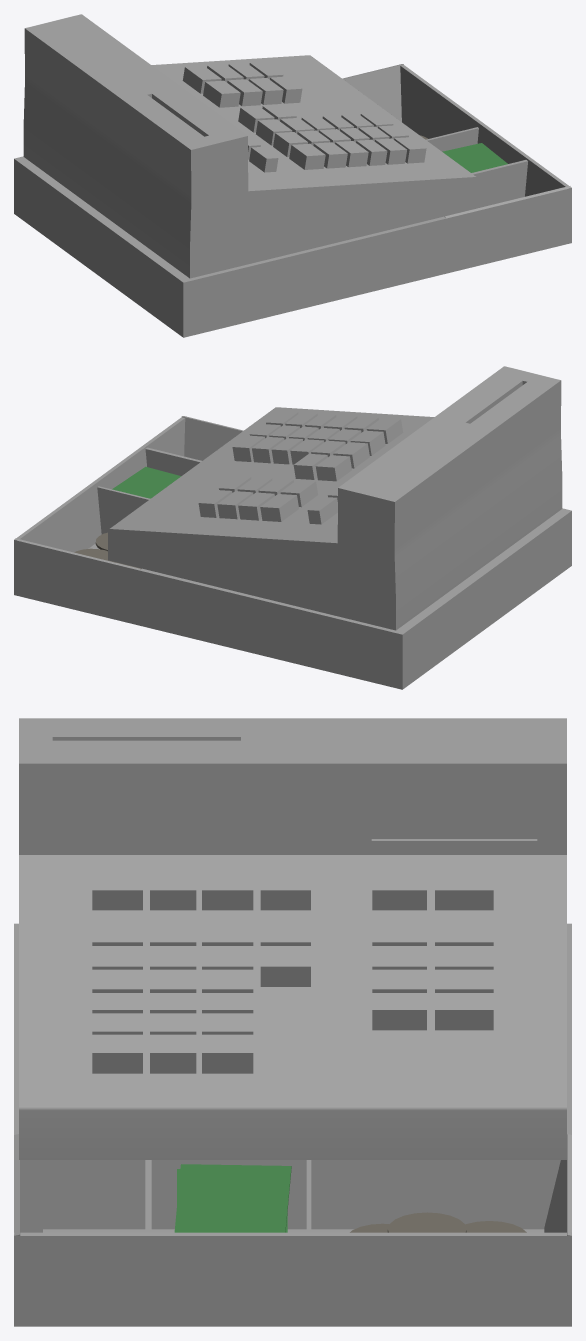
The model's file is CashRegisterUpdated.fbx.
The picture shows the model from 3 angles, top to bottom: view 1: azimuth 30°, elevation 25°; view 2: azimuth 150°, elevation 25°; view 3: azimuth 270°, elevation 25°; orthographic projection. The views are drawn at different scales.
Parts seen in each view (by area): view 1: pCube2, pCube1, pCube3, pCube4, pCube7, pCube5; view 2: pCube2, pCube1, pCube3, pCube5, pCube7, pCube4; view 3: pCube2, pCube1, pCube3, pCube7, pCylinder4.
Boxes of the visible parts, bbox=[...] form: pCube2: bbox=[23, 14, 477, 278]; pCube1: bbox=[14, 64, 571, 337]; pCube3: bbox=[157, 61, 426, 172]; pCube4: bbox=[444, 160, 527, 216]; pCube7: bbox=[442, 143, 507, 172]; pCube5: bbox=[426, 127, 478, 151]; pCube2: bbox=[108, 366, 562, 630]; pCube1: bbox=[14, 416, 571, 689]; pCube3: bbox=[198, 411, 428, 524]; pCube5: bbox=[97, 486, 150, 534]; pCube7: bbox=[112, 466, 181, 498]; pCube4: bbox=[145, 447, 201, 475]; pCube2: bbox=[19, 718, 566, 1159]; pCube1: bbox=[14, 923, 571, 1326]; pCube3: bbox=[92, 877, 493, 1073]; pCube7: bbox=[174, 1164, 291, 1232]; pCylinder4: bbox=[387, 1212, 466, 1232].
Size of the model in its own units: 3.69 by 1.68 by 2.79.
